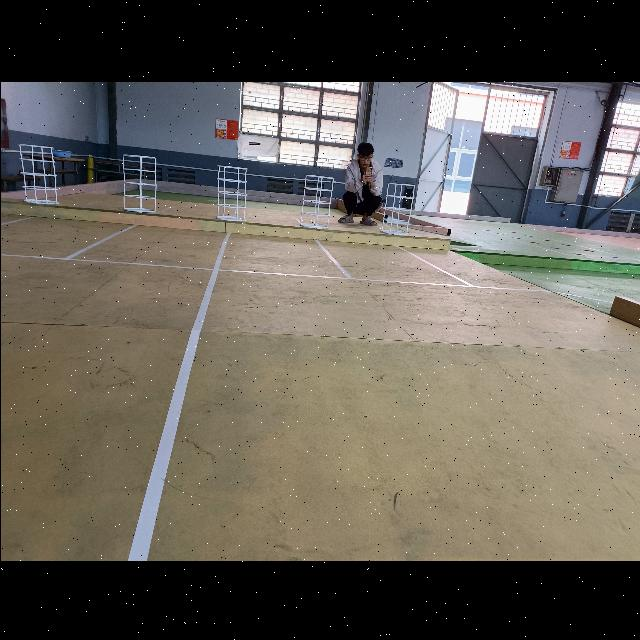S: (14, 141, 60, 204), (121, 151, 157, 215), (213, 161, 248, 222), (297, 172, 334, 229), (378, 180, 416, 234)
